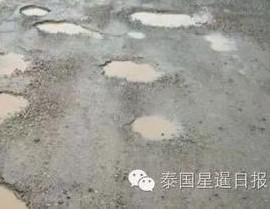pothole: (121, 105, 206, 148), (121, 7, 211, 34), (92, 54, 167, 83), (19, 3, 46, 19)
